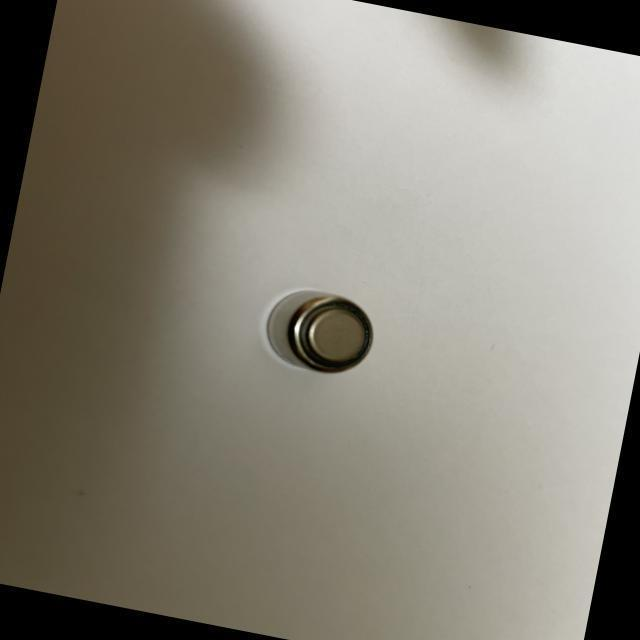COIN: (254, 282, 381, 383)
